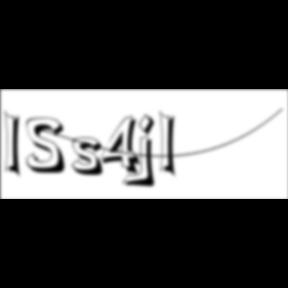4: (101, 115, 148, 179)
S: (26, 117, 72, 176)
j: (136, 113, 162, 191)
l: (4, 108, 28, 182), (160, 108, 182, 182)
s: (72, 137, 110, 179)
